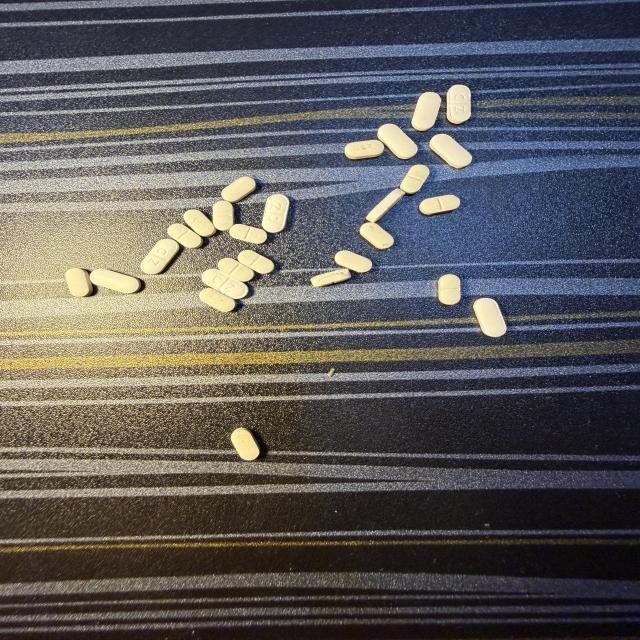pill: (429, 134, 472, 168), (202, 269, 248, 299), (378, 124, 417, 159), (141, 239, 179, 274), (366, 189, 405, 222), (474, 298, 506, 337), (90, 269, 141, 293), (412, 93, 441, 131), (262, 194, 289, 233), (231, 428, 260, 460), (447, 85, 470, 124), (360, 222, 393, 249), (221, 177, 256, 202), (184, 210, 216, 237), (218, 258, 254, 282), (238, 250, 274, 274), (400, 165, 429, 194), (167, 224, 202, 248), (199, 289, 235, 312), (419, 195, 460, 215), (335, 251, 372, 273), (65, 268, 92, 297), (345, 140, 384, 159), (229, 224, 266, 244), (311, 269, 351, 287), (438, 274, 460, 305), (213, 201, 234, 230), (328, 368, 335, 376)
